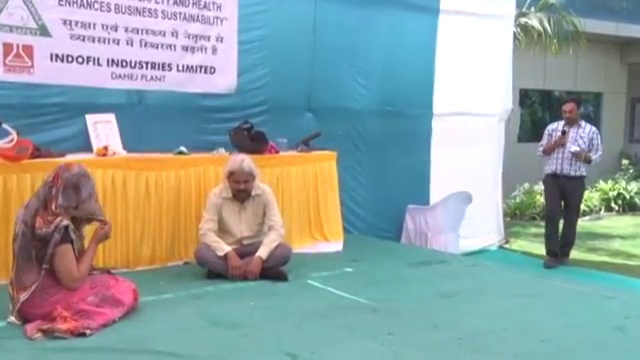helmet_off: (41, 164, 96, 220), (225, 153, 259, 203), (562, 99, 581, 126)
person: (5, 163, 138, 341), (192, 154, 293, 285), (533, 100, 604, 272)
